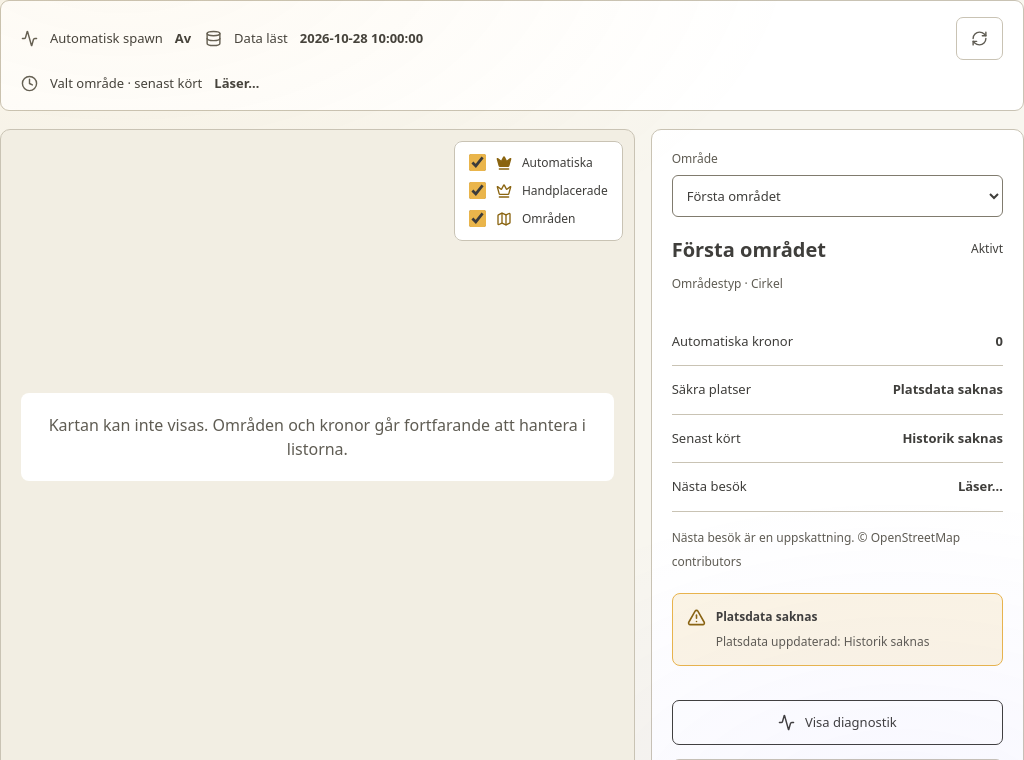
Test: ignores late diagnostics from a previously selected area
Select "Andra området" in the dropdown labelled "Område" at (837, 196), box [672,174,1003,216]
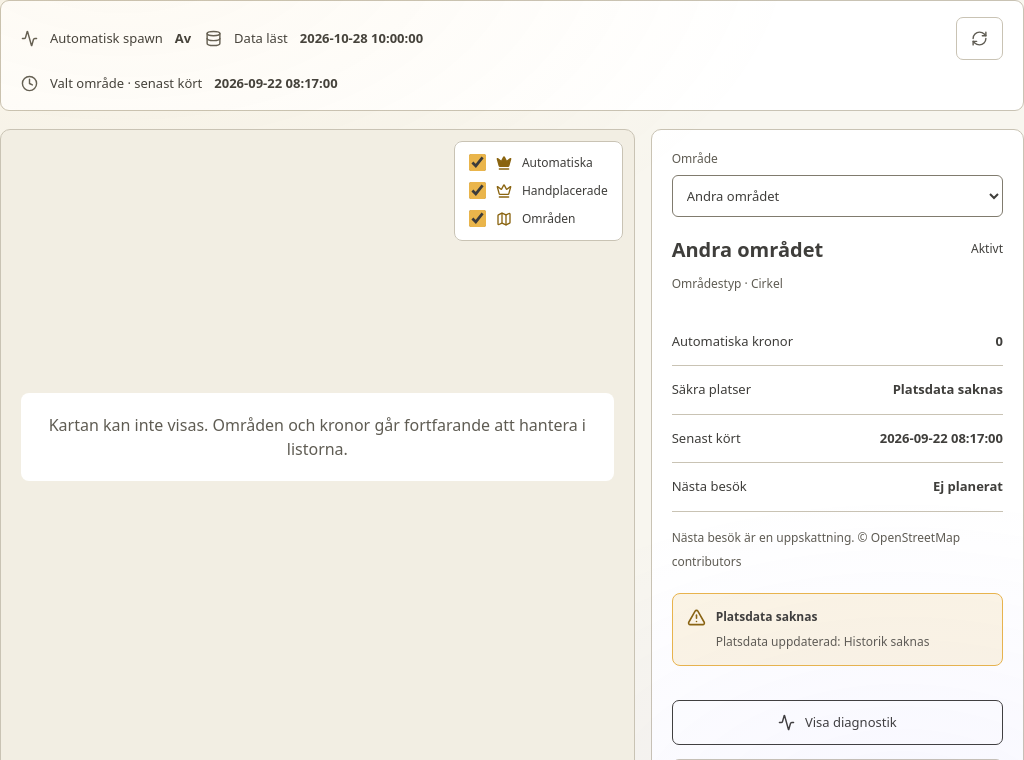
Result: the text "2026-09-22" is shown at [214,74,338,92]
